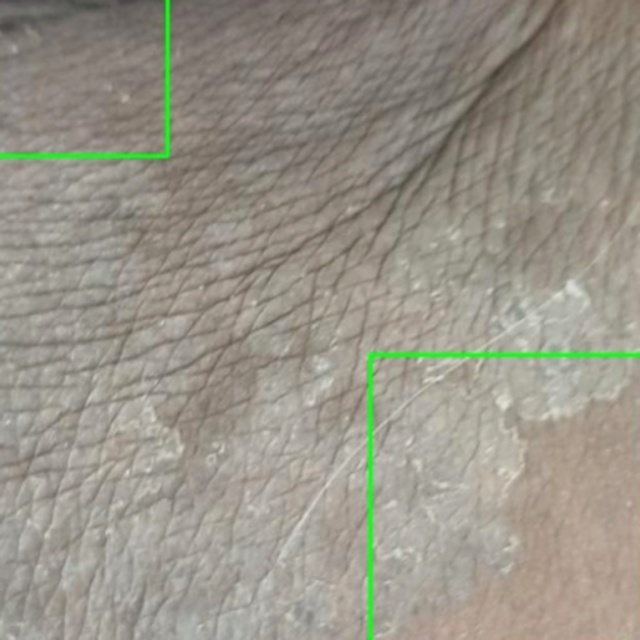Eczema: (370, 354, 639, 639), (0, 0, 167, 156)
